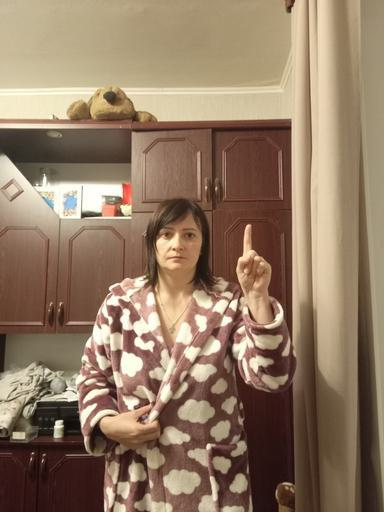one: (235, 223, 273, 296)
